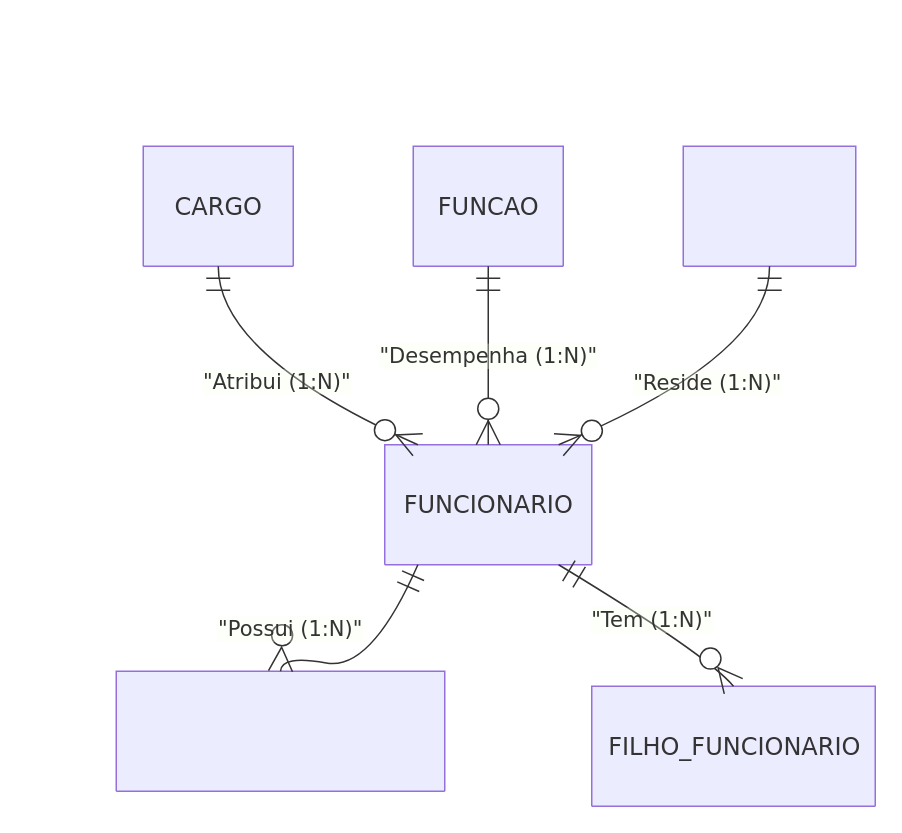
This 902x833 diagram has some shape labels left out. Each missing label, with the centre of its shape:
"ENDERECO" belongs at [769,205].
"TELEFONE_FUNCIONARIO" belongs at [280,730].
